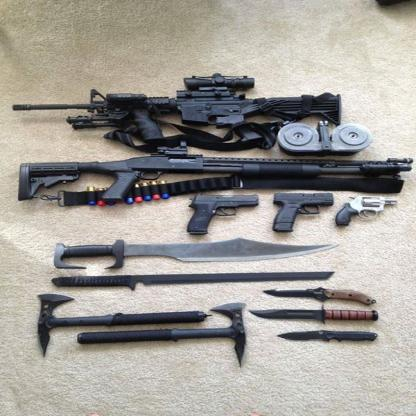Gun: (11, 71, 343, 143), (14, 149, 413, 205)
Knife: (248, 305, 381, 327), (262, 286, 379, 307), (276, 326, 378, 346)
Pistol: (184, 192, 260, 236), (273, 190, 335, 233), (333, 193, 398, 227)
